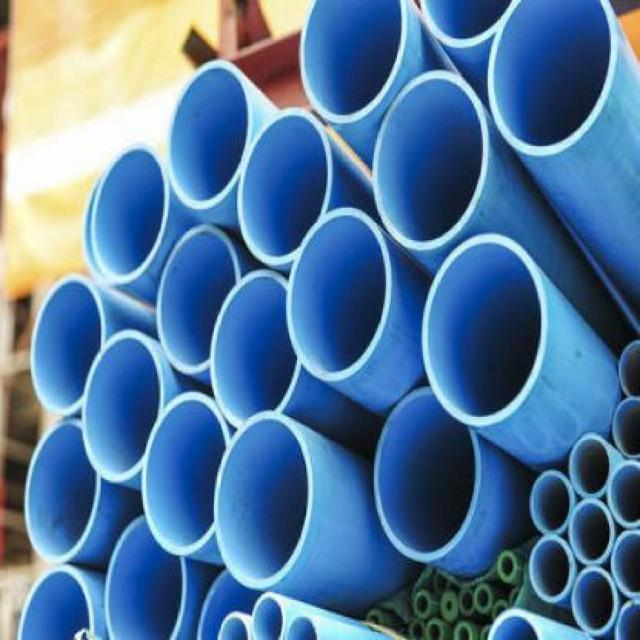pipe: (422, 233, 547, 427), (373, 70, 489, 252), (487, 0, 616, 155), (373, 389, 481, 563), (286, 207, 391, 383), (214, 411, 313, 590), (238, 108, 334, 266), (141, 393, 231, 556), (209, 270, 300, 428), (299, 0, 409, 125), (156, 225, 241, 376), (81, 331, 163, 482), (169, 60, 250, 211), (85, 145, 168, 287), (24, 418, 101, 563), (31, 273, 107, 415), (104, 517, 187, 639), (16, 565, 96, 639), (529, 535, 576, 602), (572, 568, 617, 635), (569, 500, 614, 563), (569, 432, 611, 497), (530, 472, 573, 532), (607, 459, 640, 529), (611, 530, 639, 597), (612, 399, 639, 459), (251, 592, 285, 639), (617, 342, 640, 396), (216, 611, 250, 639), (497, 550, 519, 581), (475, 584, 492, 613), (459, 588, 476, 615), (415, 589, 430, 618), (425, 619, 445, 639), (452, 621, 474, 638)
